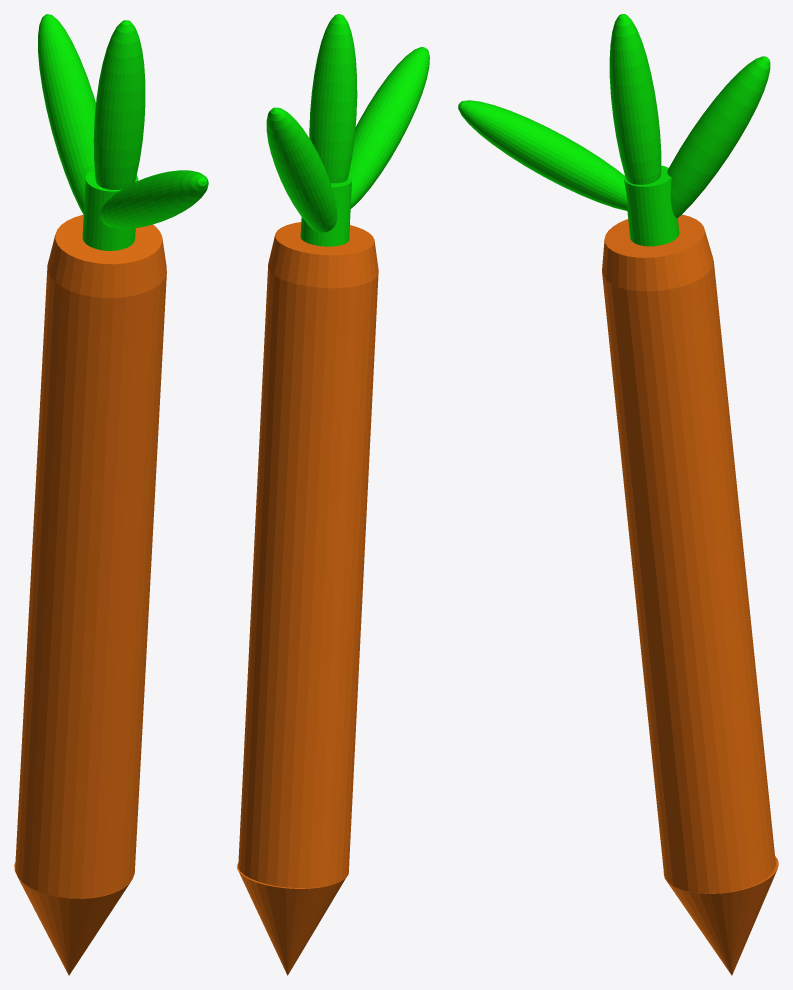
File: Wortel.fbx
3 renders of one model, left to right at view 1: azimuth 30°, elevation 25°; view 2: azimuth 150°, elevation 25°; view 3: azimuth 270°, elevation 25°, orthographic. The views are drawn at different scales.
Visible parts, largest first — view 1: Cylinder, Sphere.002, Sphere.001, Sphere, Cone; view 2: Cylinder, Sphere.002, Sphere, Sphere.001, Cone; view 3: Cylinder, Sphere, Sphere.001, Sphere.002, Cone.
Part boxes in pixels (x1=…): Cylinder: x1=15, y1=171, x2=166, y2=898; Sphere.002: x1=93, y1=20, x2=145, y2=189; Sphere.001: x1=38, y1=14, x2=95, y2=214; Sphere: x1=100, y1=170, x2=208, y2=228; Cone: x1=14, y1=862, x2=131, y2=975; Cylinder: x1=238, y1=176, x2=378, y2=888; Sphere.002: x1=309, y1=14, x2=357, y2=183; Sphere: x1=348, y1=47, x2=429, y2=208; Sphere.001: x1=266, y1=107, x2=337, y2=232; Cone: x1=237, y1=863, x2=345, y2=975; Cylinder: x1=602, y1=165, x2=775, y2=893; Sphere: x1=458, y1=100, x2=627, y2=210; Sphere.001: x1=667, y1=56, x2=770, y2=218; Sphere.002: x1=609, y1=14, x2=661, y2=184; Cone: x1=663, y1=856, x2=778, y2=975.
Size of the model in its own units: 136 by 1234 by 373.
